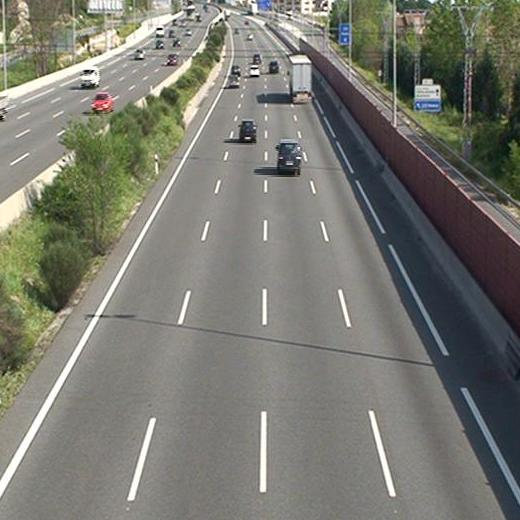car: (276, 140, 301, 172), (239, 119, 256, 142), (269, 59, 279, 72), (228, 76, 239, 87), (250, 65, 260, 77), (231, 63, 240, 74), (253, 53, 261, 64)
truck: (288, 56, 312, 104)
